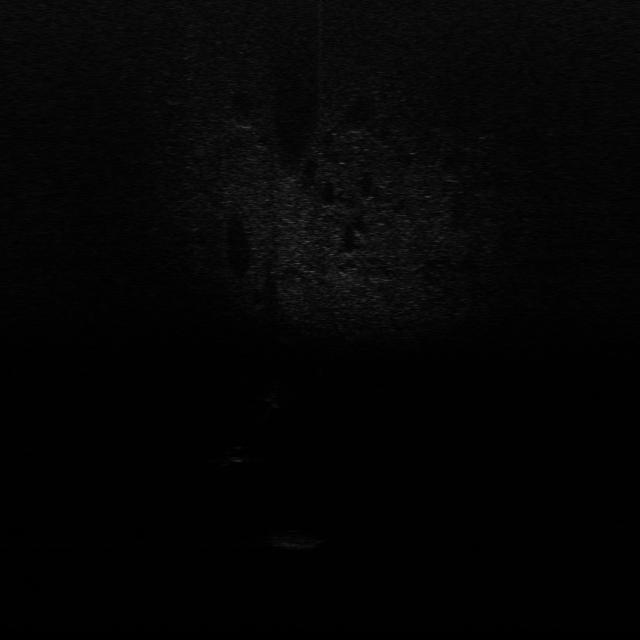ball: (224, 444, 253, 464)
circle cage: (268, 525, 326, 550)
human body: (262, 379, 290, 416)
